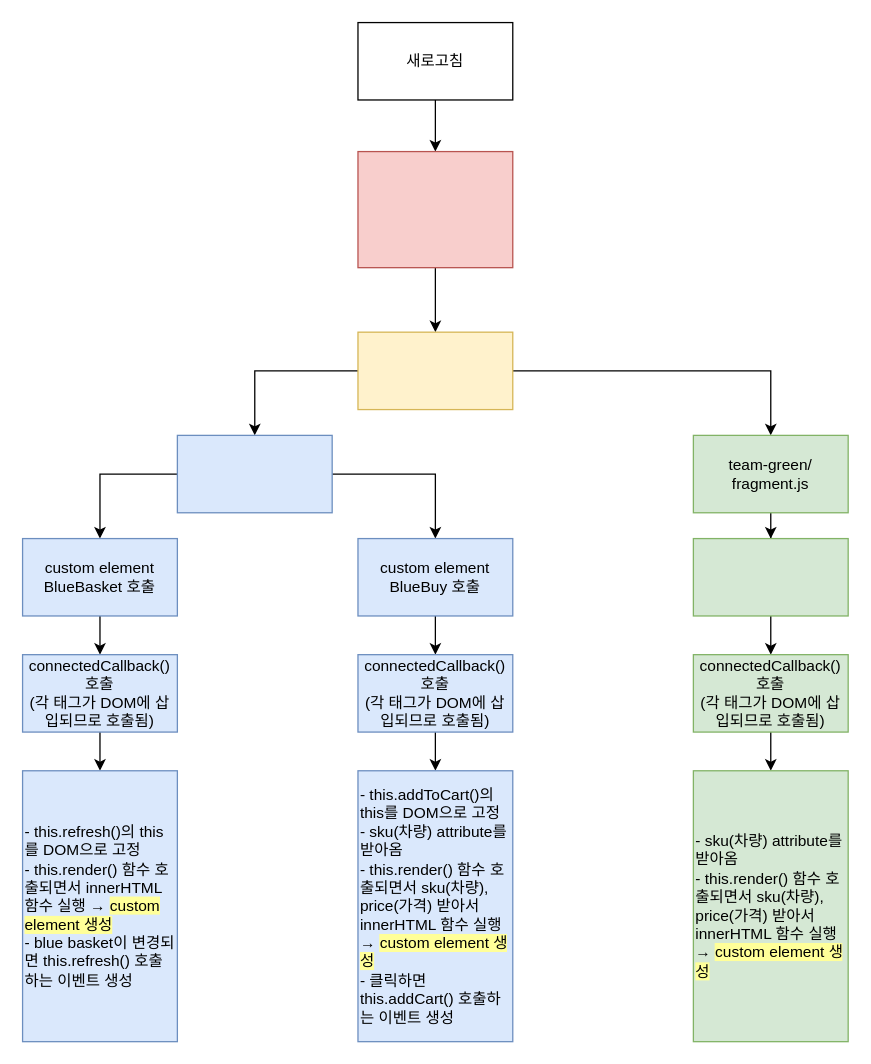
Image size: 871x1064. Some labels were removed from this diagram. Each missing label, with the centre of its shape:
"custom element greenRecos 호출" goes at (770,576).
"index.html (메인-서브 연결)" goes at (435,370).
"team-blue/ fragment.js" goes at (254,473).
"team-red/page.js <blue-basket /> <blue-buy /> <green- recos /> 태그 읽음" goes at (435,209).
